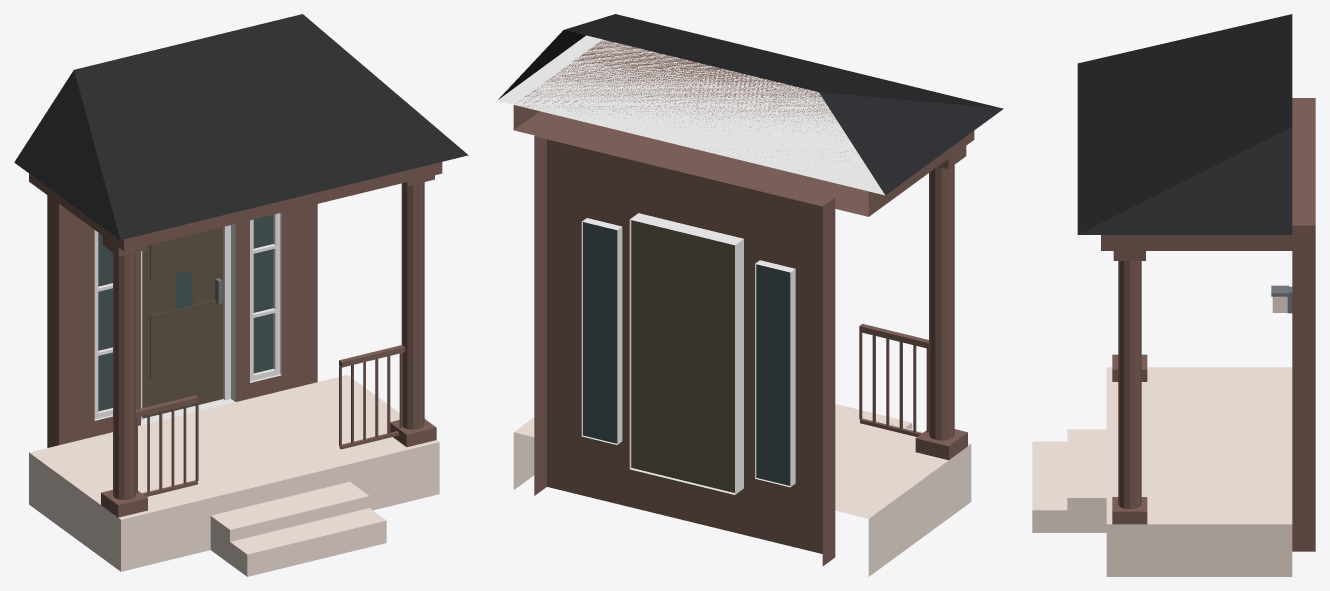
The model's file is entrance_close.fbx.
3 views of the same model, side by side, from view 1: azimuth 30°, elevation 25°; view 2: azimuth 150°, elevation 25°; view 3: azimuth 270°, elevation 25° (orthographic). The views are drawn at different scales.
Parts seen in each view (by area): view 1: a2000s2/800/entrance_close; view 2: a2000s2/800/entrance_close; view 3: a2000s2/800/entrance_close.
Boxes of the visible parts, x1,y1,x2,y2 form: a2000s2/800/entrance_close: [14, 14, 468, 576]; a2000s2/800/entrance_close: [497, 14, 1003, 576]; a2000s2/800/entrance_close: [1032, 14, 1315, 576].
Size of the model in its own units: 3.5 by 4.07 by 2.44.
